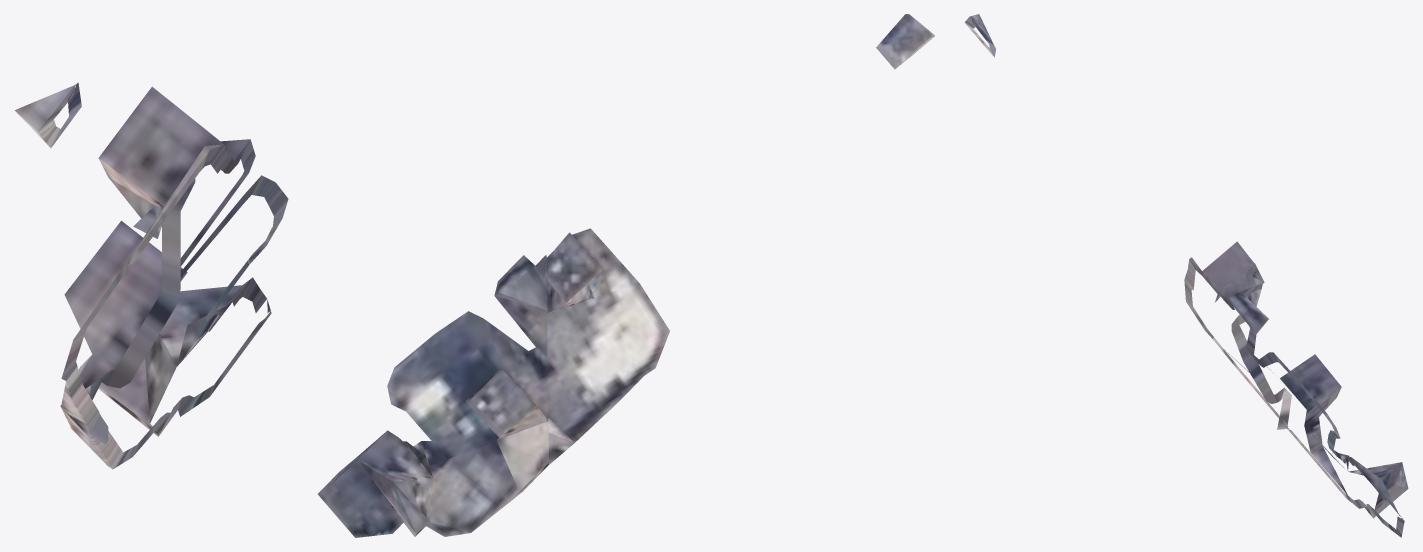
The picture shows the model from 3 angles, left to right: view 1: azimuth 30°, elevation 25°; view 2: azimuth 150°, elevation 25°; view 3: azimuth 270°, elevation 25°; orthographic projection. The views are drawn at different scales.
Size of the model in its own units: 72.55 by 77.85 by 81.74.
Materials: 1 (1 with a texture image).
